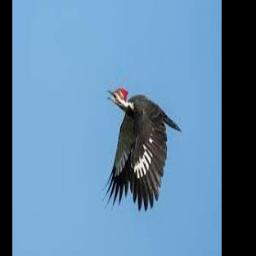Woodpecker: (102, 87, 182, 213)
